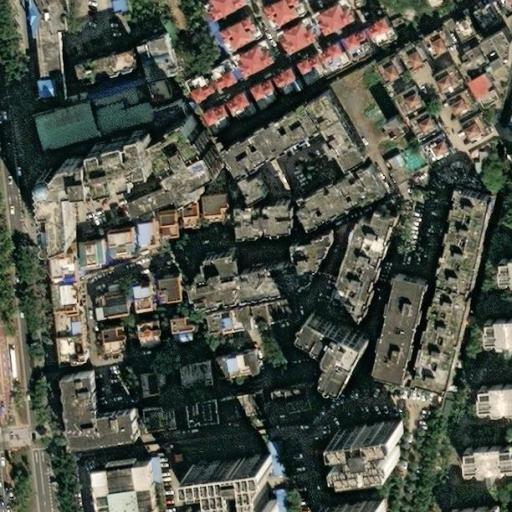building: (404, 199, 480, 404), (39, 137, 151, 251), (329, 218, 398, 331), (231, 99, 320, 170), (294, 158, 384, 225), (158, 127, 229, 211), (183, 452, 273, 512), (248, 243, 345, 297), (370, 278, 417, 385), (295, 315, 361, 391), (52, 381, 123, 449), (28, 96, 95, 151), (93, 462, 162, 512), (332, 420, 394, 471), (310, 91, 357, 150), (197, 265, 250, 306), (62, 50, 124, 85), (87, 98, 147, 134), (123, 181, 176, 217), (26, 33, 54, 101), (232, 205, 290, 237), (274, 22, 318, 63), (140, 40, 181, 83), (202, 299, 246, 339), (230, 47, 275, 83), (313, 5, 352, 45), (217, 22, 259, 58), (273, 389, 320, 421), (461, 443, 512, 470), (22, 0, 59, 35), (477, 29, 507, 71), (204, 62, 238, 99), (221, 395, 263, 424), (262, 0, 300, 32), (178, 76, 211, 112), (0, 327, 13, 417), (73, 232, 108, 265), (470, 77, 502, 113), (203, 0, 249, 25), (328, 495, 395, 512), (59, 338, 91, 373), (52, 287, 88, 318), (214, 356, 257, 381), (249, 303, 292, 328), (448, 14, 480, 47), (140, 407, 175, 437), (181, 403, 216, 432), (476, 380, 512, 408), (55, 314, 88, 342), (49, 263, 80, 292), (159, 108, 192, 135), (273, 73, 303, 102), (398, 45, 427, 74), (458, 119, 487, 148), (99, 328, 126, 359), (373, 60, 402, 88), (421, 30, 450, 58), (431, 69, 460, 97), (391, 89, 420, 117), (444, 94, 472, 122), (338, 139, 367, 166), (457, 50, 486, 77), (144, 80, 171, 109), (225, 99, 253, 126), (136, 374, 165, 400), (97, 298, 128, 322), (346, 34, 373, 61), (250, 86, 276, 114), (134, 326, 160, 354), (178, 366, 208, 390), (203, 110, 229, 137), (423, 141, 450, 167), (407, 114, 434, 140), (320, 48, 346, 74), (484, 316, 512, 340), (301, 61, 326, 86), (472, 6, 497, 31), (369, 25, 392, 49), (156, 284, 179, 308), (169, 322, 192, 346), (130, 289, 149, 317), (110, 78, 133, 101), (392, 124, 414, 147), (454, 503, 500, 512), (496, 255, 512, 279), (158, 220, 174, 243), (179, 214, 196, 235), (136, 230, 153, 250), (103, 0, 119, 16), (508, 109, 512, 123)
